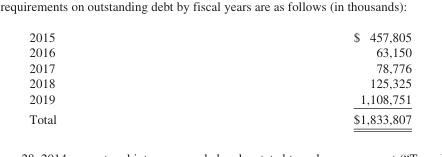table: (28, 28, 410, 126)
table column: (204, 28, 410, 126), (28, 28, 204, 126)
table row: (28, 90, 410, 108), (28, 108, 410, 126), (28, 43, 410, 59), (28, 74, 410, 90), (28, 28, 410, 43), (28, 59, 410, 74)
